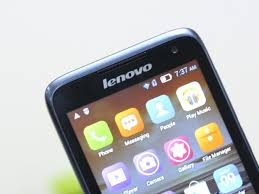lenovo: (41, 26, 259, 194)
